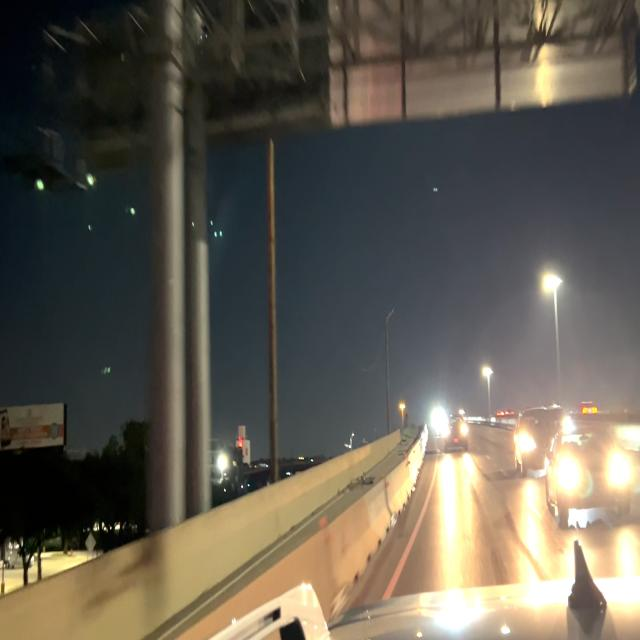back-of-sign: (323, 0, 638, 136)
